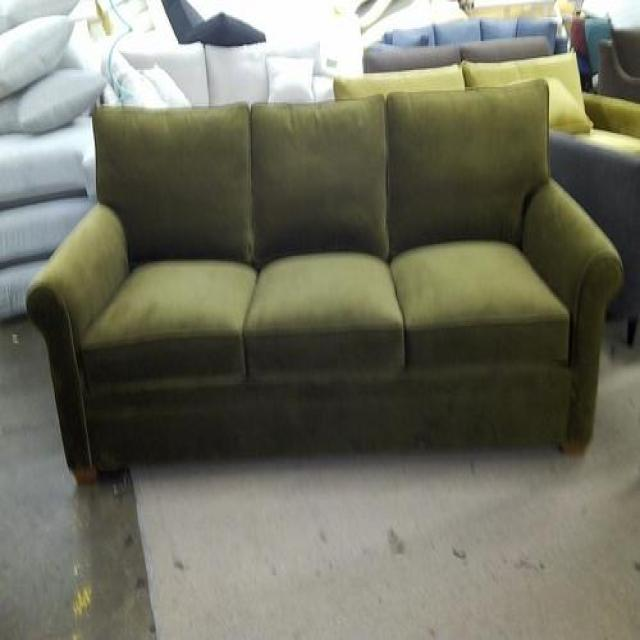sofa: (25, 79, 624, 484)
